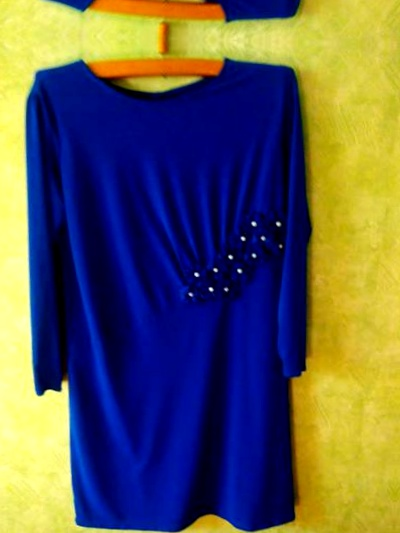Dress: (2, 46, 351, 533), (18, 0, 367, 30)
